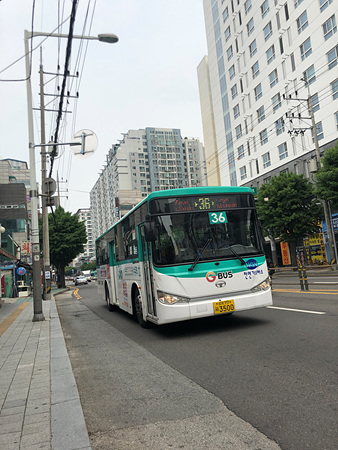bnum: (209, 211, 226, 224)
